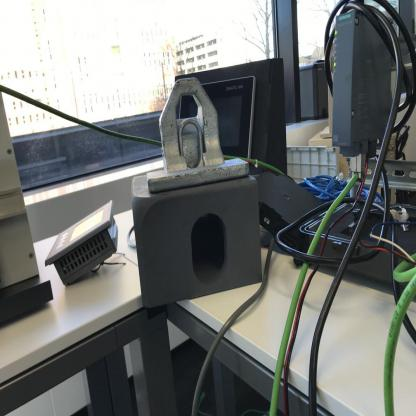CornerCasting: (131, 175, 266, 306)
Twistlock: (144, 72, 255, 193)
